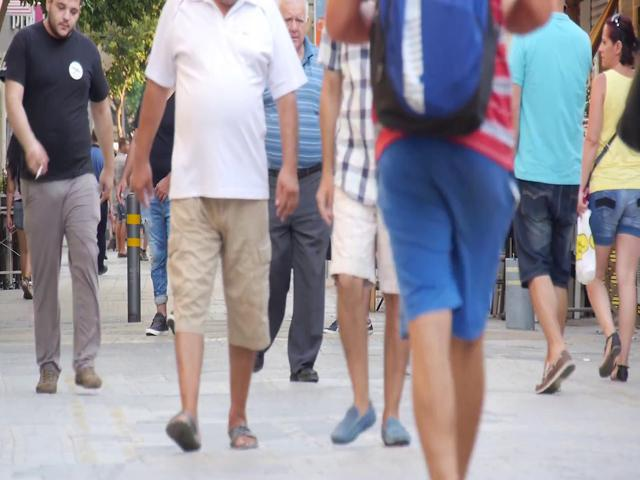shoe: (332, 402, 376, 444), (532, 352, 575, 394), (165, 416, 201, 452), (599, 332, 621, 378), (228, 421, 259, 449), (382, 419, 411, 445), (35, 365, 59, 393), (73, 368, 102, 389), (146, 313, 168, 335), (290, 366, 318, 382)
